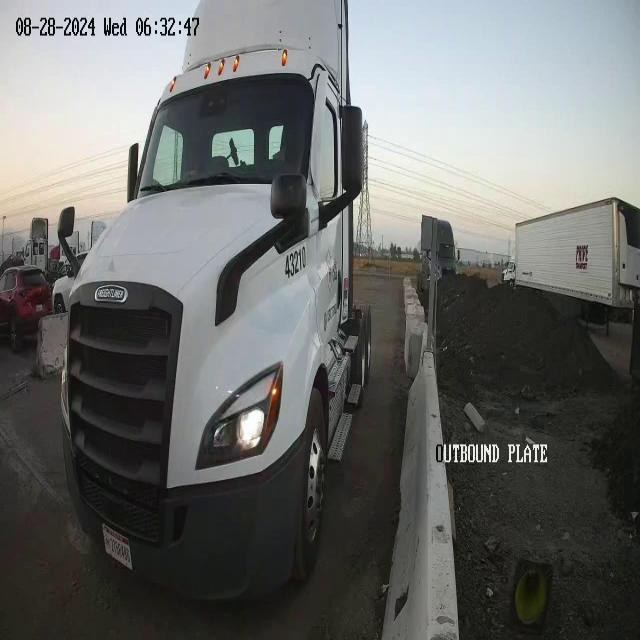BOBTAIL: (54, 2, 374, 606)
